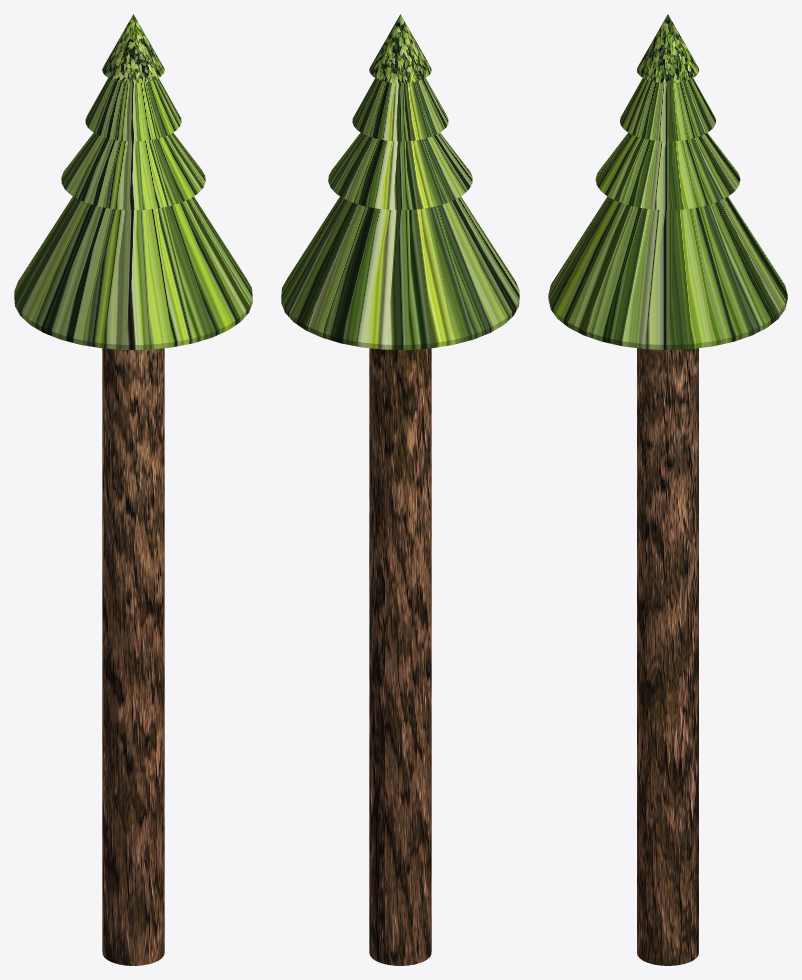
File: tree1.glb
The picture shows the model from 3 angles, left to right: view 1: azimuth 30°, elevation 25°; view 2: azimuth 150°, elevation 25°; view 3: azimuth 270°, elevation 25°; orthographic projection.
Visible parts, largest first — view 1: 원뿔, 실린더; view 2: 원뿔, 실린더; view 3: 원뿔, 실린더.
Boxes of the visible parts, left/top/right/bottom form: 원뿔: left=14, top=14, right=252, bottom=349; 실린더: left=102, top=348, right=164, bottom=965; 원뿔: left=281, top=14, right=519, bottom=349; 실린더: left=369, top=348, right=431, bottom=965; 원뿔: left=548, top=14, right=787, bottom=349; 실린더: left=637, top=348, right=698, bottom=965.
Bounding box in the file's own units: 7.69 × 33.32 × 7.69.
2 materials, 2 textured.
